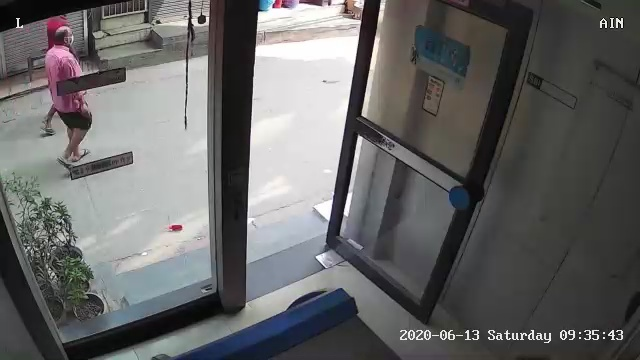open: (200, 3, 548, 344)
